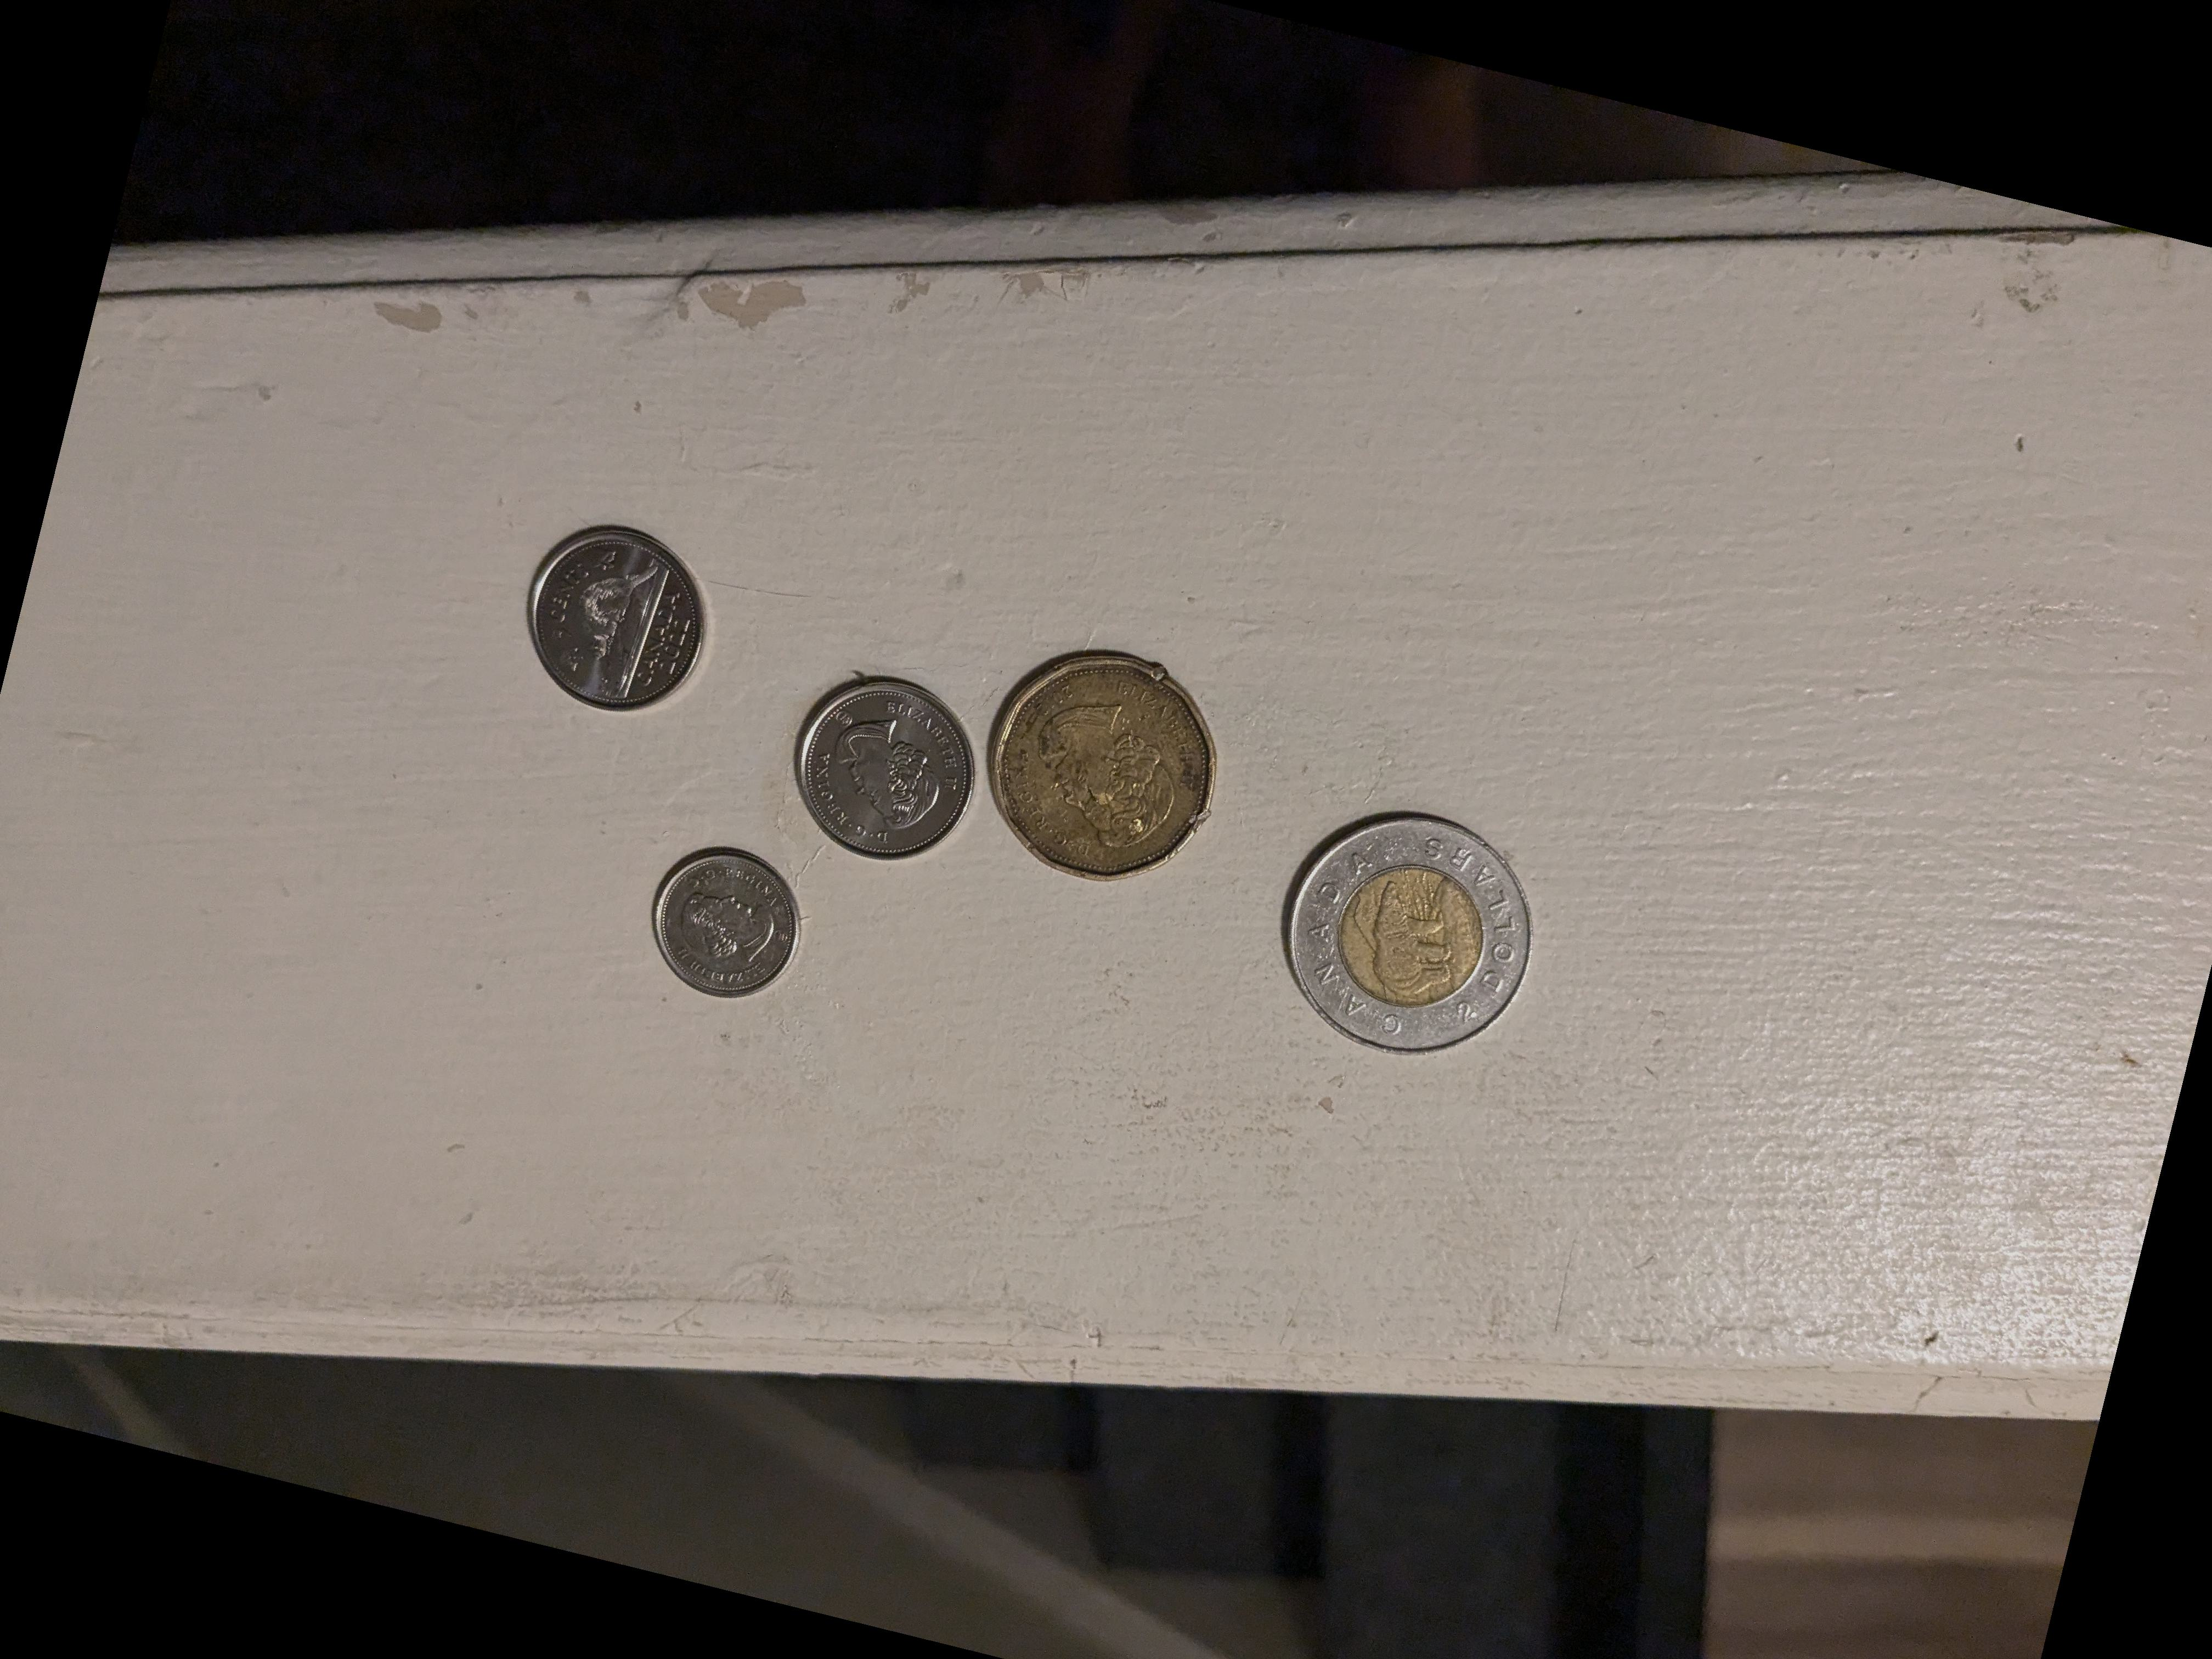dime: (646, 843, 812, 1002)
loonie: (984, 647, 1217, 889)
nickel: (526, 518, 711, 718), (794, 673, 975, 863)
toonie: (1289, 809, 1533, 1063)
